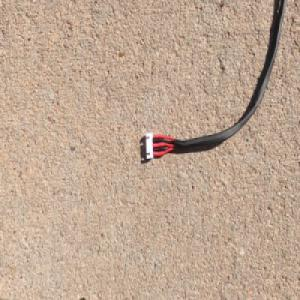Wire: (142, 0, 286, 163)
